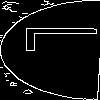L: (25, 25, 100, 53)
